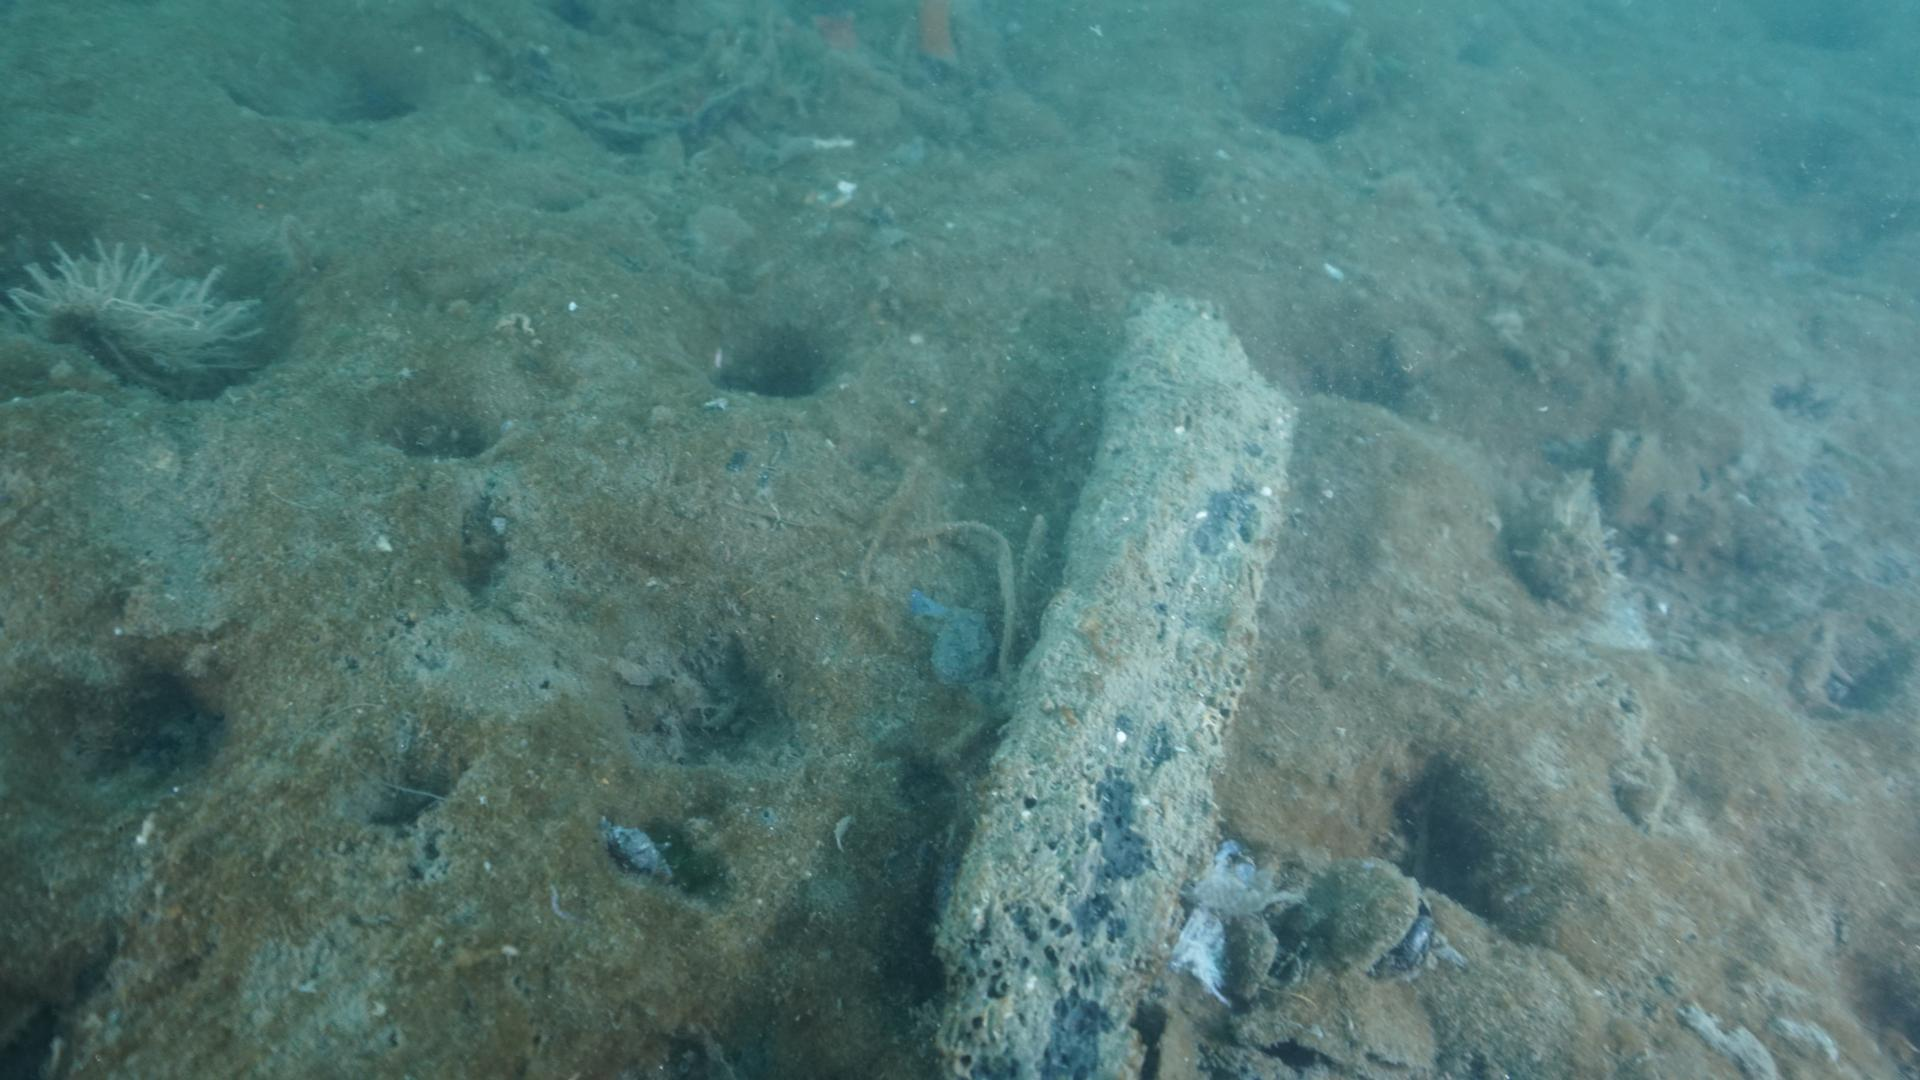wood: (926, 284, 1302, 1080)
